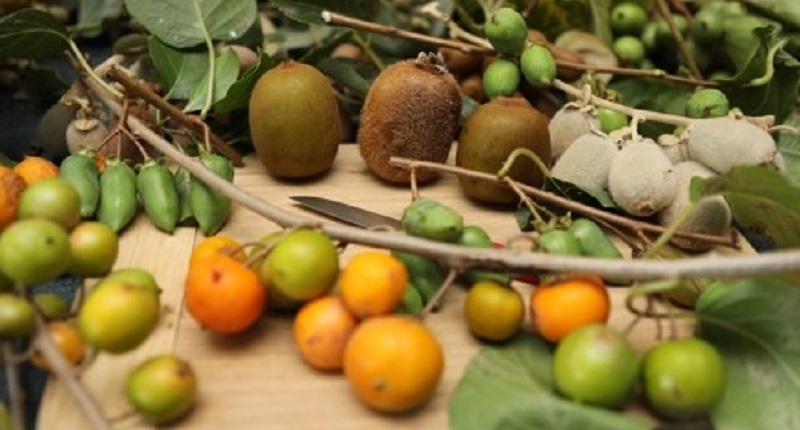kiwi: (357, 54, 463, 186), (455, 96, 553, 207), (249, 60, 341, 178)
